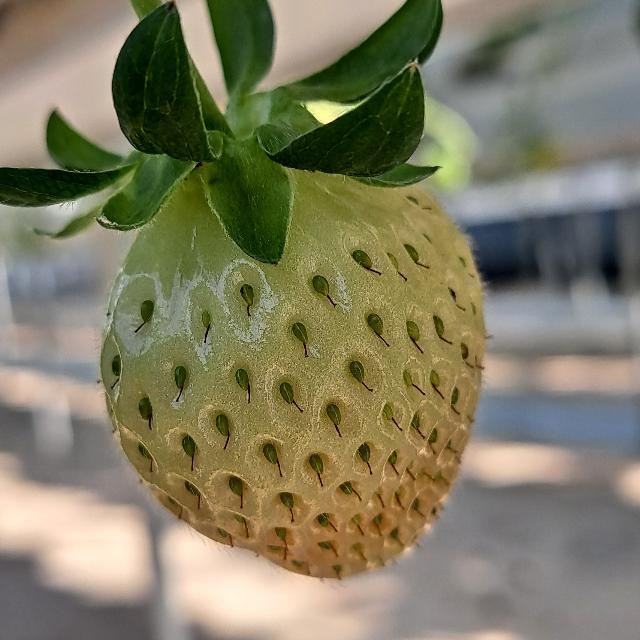Health_25: (100, 168, 484, 578)
